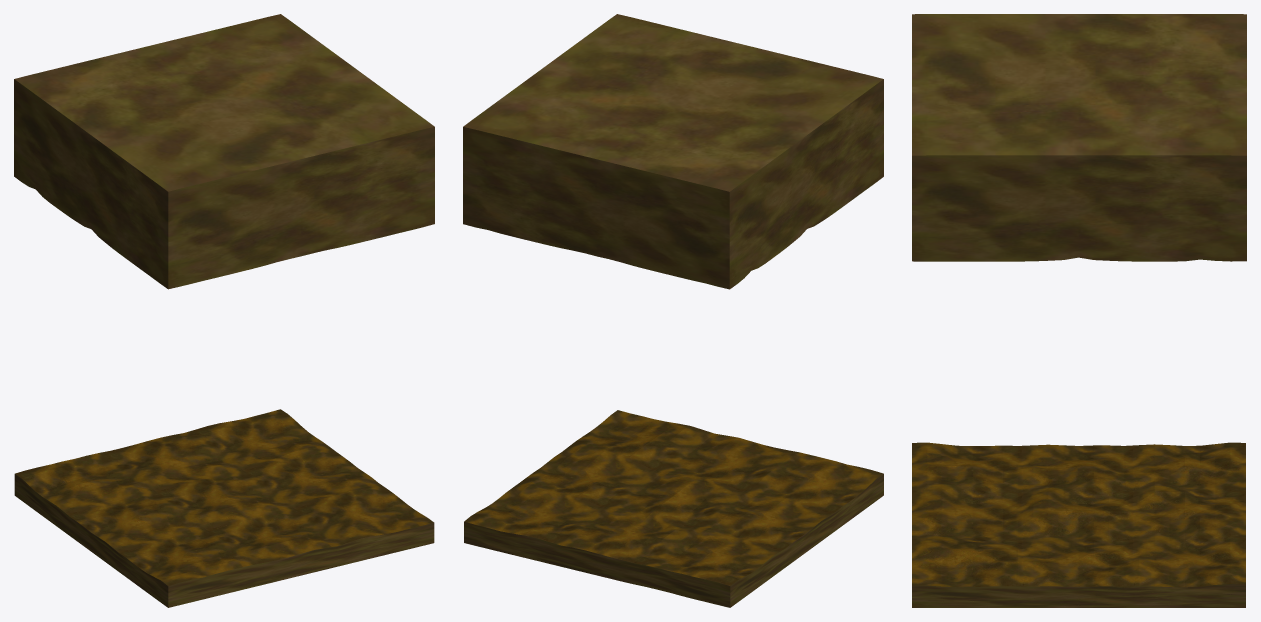
Rendered from sol-plafond_text.obj.
3 views of the same model, side by side, from view 1: azimuth 30°, elevation 25°; view 2: azimuth 150°, elevation 25°; view 3: azimuth 270°, elevation 25° (orthographic). The views are drawn at different scales.
Parts seen in each view (by area): view 1: Cube; view 2: Cube; view 3: Cube.
Boxes of the visible parts, x1=… form: Cube: x1=14, y1=14, x2=434, y2=607; Cube: x1=463, y1=14, x2=883, y2=607; Cube: x1=912, y1=14, x2=1246, y2=607.
Size of the model in its own units: 2.01 by 3 by 2.01.
Materials: 3 (3 with a texture image).
